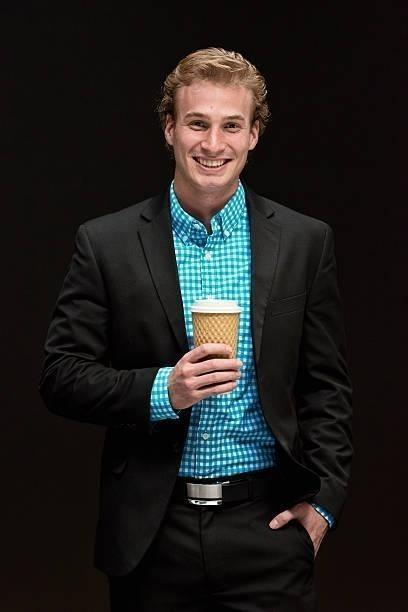cup-disposable: (188, 297, 244, 388)
